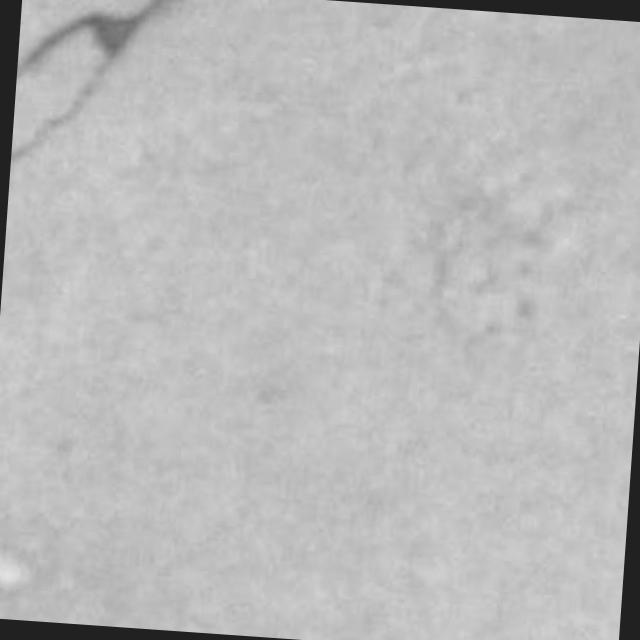crack: (11, 0, 174, 162)
